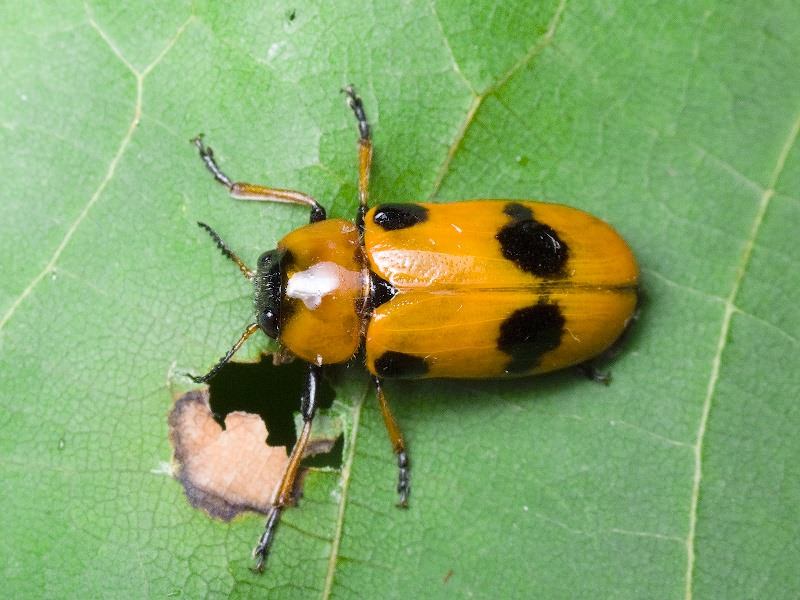Tituboea_macropus: (161, 73, 646, 569)
